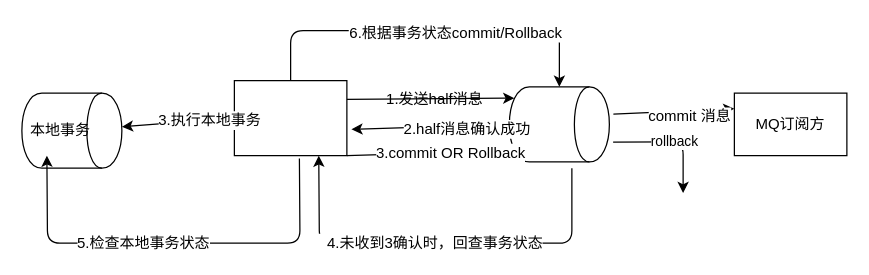
This 869x275 diagram has some shape labels left out. Each missing label, with the box of its shape:
MQ Server: (508, 86, 609, 162)
MQ发送方: (233, 79, 347, 156)
